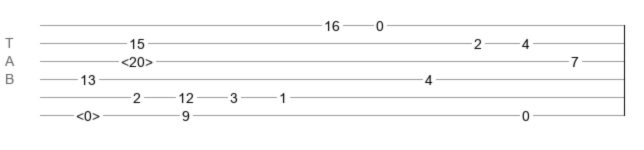0: (376, 18, 384, 28), (522, 108, 530, 118)
1: (279, 90, 287, 100)
12: (178, 90, 194, 100)
13: (80, 72, 96, 82)
15: (129, 36, 145, 46)
16: (324, 18, 340, 28)
2: (133, 90, 141, 100), (474, 36, 482, 46)
3: (230, 90, 238, 100)
4: (425, 72, 433, 82), (522, 36, 530, 46)
7: (571, 54, 579, 64)
9: (182, 108, 190, 118)
harmonic: (121, 54, 153, 64), (76, 108, 100, 118)
